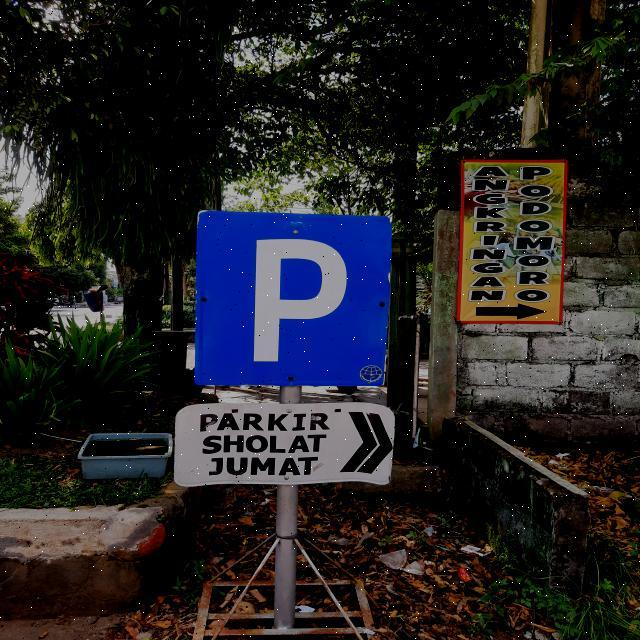Tempat Parkir: (196, 210, 392, 386)
